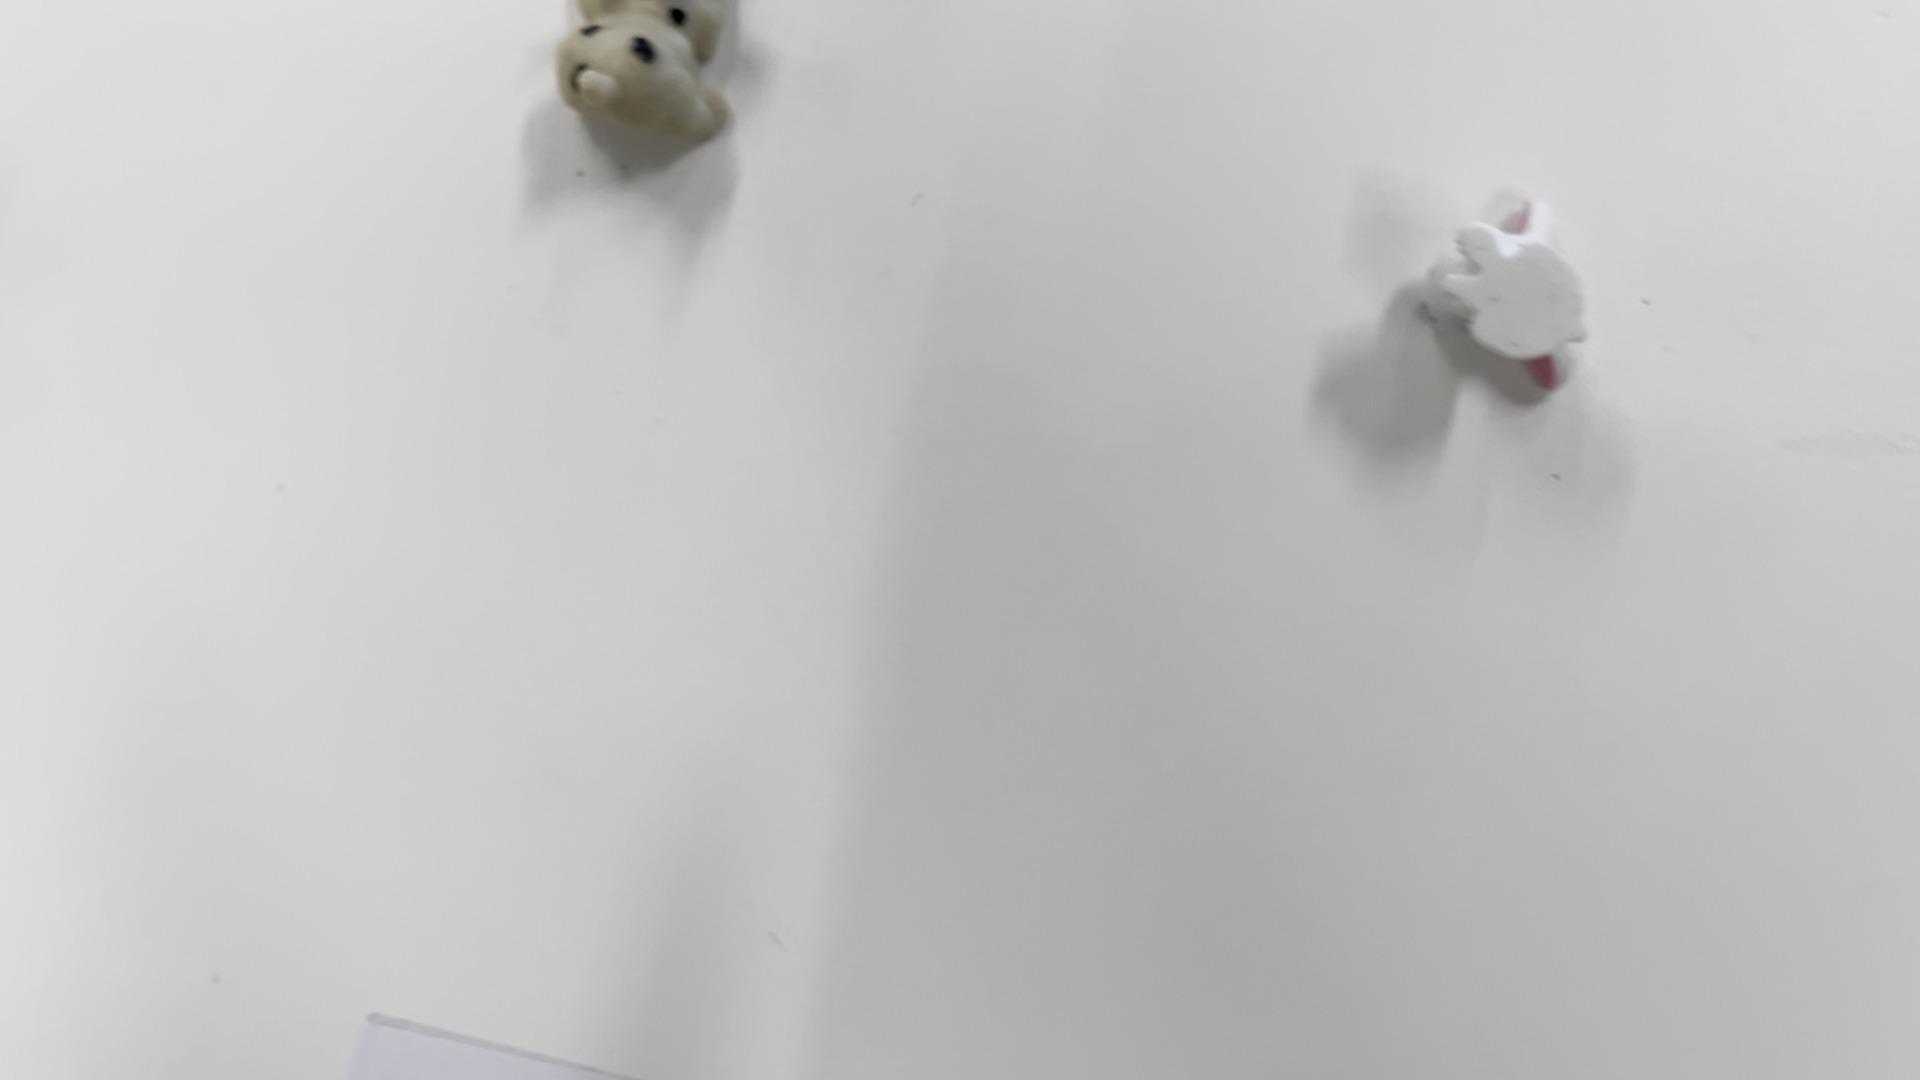pet: (555, 0, 754, 198), (1402, 171, 1580, 357)
